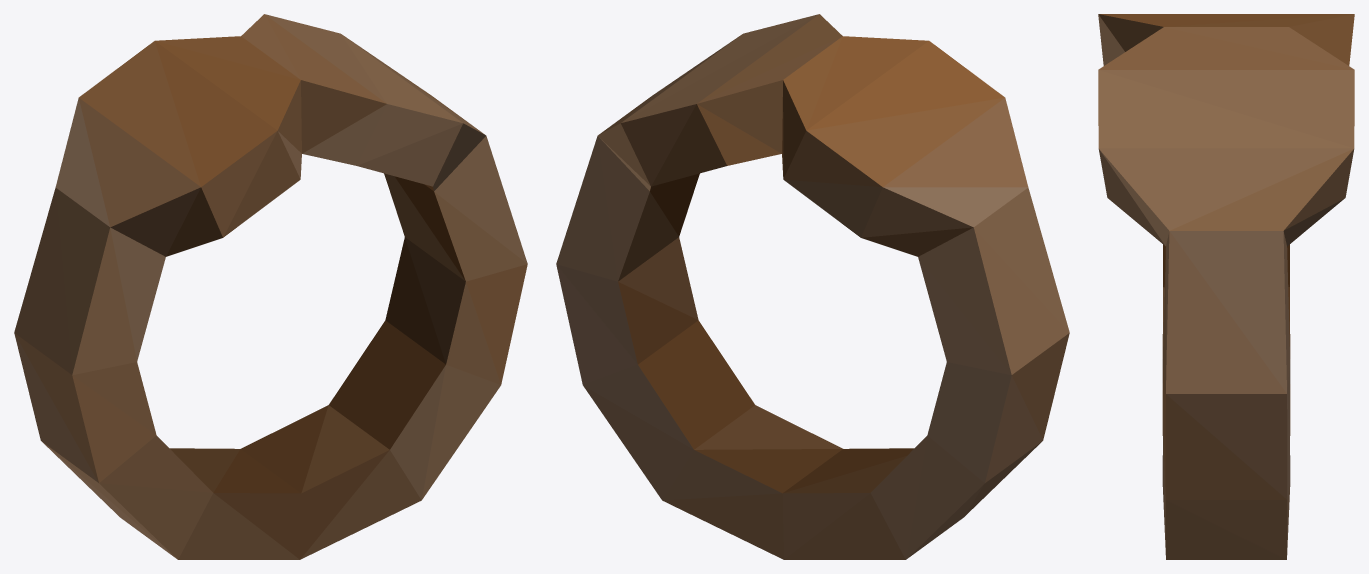
The model's file is prop_treasure_ring_bronze.fbx.
The picture shows the model from 3 angles, left to right: view 1: azimuth 30°, elevation 25°; view 2: azimuth 150°, elevation 25°; view 3: azimuth 270°, elevation 25°; orthographic projection. The views are drawn at different scales.
Parts seen in each view (by area): view 1: prop_treasure_ring_bronze; view 2: prop_treasure_ring_bronze; view 3: prop_treasure_ring_bronze.
Boxes of the visible parts, <box> form: prop_treasure_ring_bronze: <box>14,14,527,559</box>; prop_treasure_ring_bronze: <box>556,14,1069,559</box>; prop_treasure_ring_bronze: <box>1098,14,1354,559</box>.
Bounding box in the file's own units: 0.229 × 0.2308 × 0.107.
